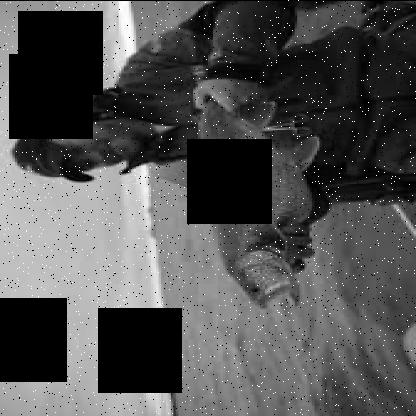fish: (155, 58, 317, 310)
